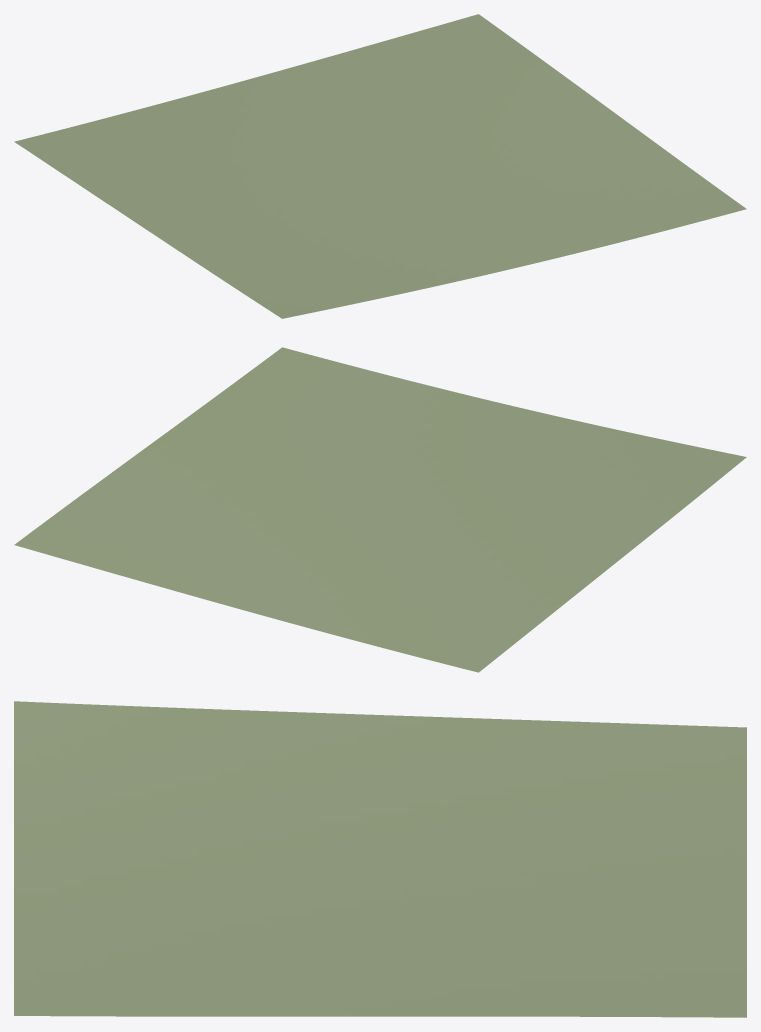
Rendered from expanse-18-14.glb.
3 renders of one model, top to bottom at view 1: azimuth 30°, elevation 25°; view 2: azimuth 150°, elevation 25°; view 3: azimuth 270°, elevation 25°, orthographic. The views are drawn at different scales.
Visible parts, largest first — view 1: expanse-18-14; view 2: expanse-18-14; view 3: expanse-18-14.
Part boxes in pixels (x1,y1,x2,y2): expanse-18-14: (14,14,746,318); expanse-18-14: (14,347,746,672); expanse-18-14: (14,701,746,1017).
Bounding box in the file's own units: 256 × 10.12 × 256.
